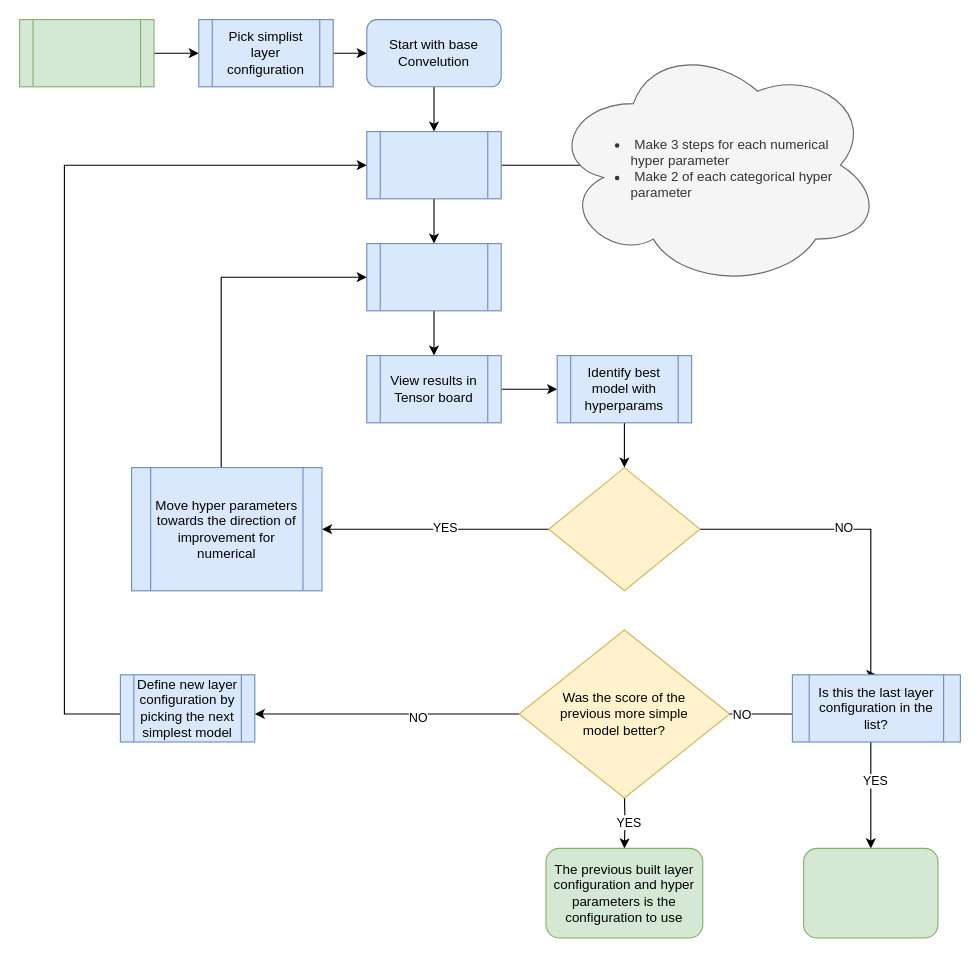
The diagram is 980 pixels wide and 958 high, and some of its shapes have lost their labels. The centre of each missing label's shape, as x and y in pixels:
"Define a list of layer configurations" belongs at pixel 86 52.
"Define hyper parameters" belongs at pixel 433 164.
"Is the score getting better?" belongs at pixel 624 528.
"Start gridsearch" belongs at pixel 433 276.
"This is the layer and hyper parameter configuration to use" belongs at pixel 870 892.
